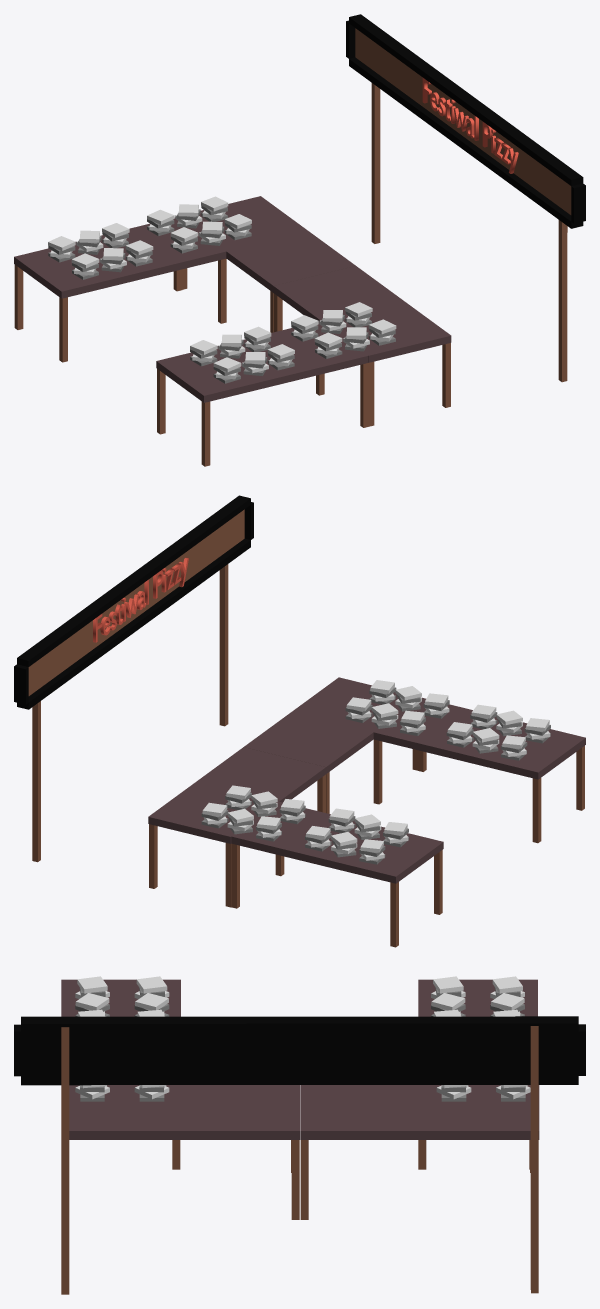
File: FestiallPizzzyy.fbx
The picture shows the model from 3 angles, top to bottom: view 1: azimuth 30°, elevation 25°; view 2: azimuth 150°, elevation 25°; view 3: azimuth 270°, elevation 25°; orthographic projection. The views are drawn at different scales.
Visible parts, largest first — view 1: Stoł, Banner, Pizze_003__2_, Pizze_003, Pizze_003__3_, Pizze_003__1_, Text; view 2: Stoł, Banner, Pizze_003, Pizze_003__1_, Pizze_003__2_, Pizze_003__3_, Text; view 3: Banner, Stoł, Pizze_003, Pizze_003__3_, Pizze_003__1_, Pizze_003__2_.
Boxes of the visible parts, left/top/right/bottom form: Stoł: left=14, top=196, right=451, bottom=466; Banner: left=346, top=14, right=585, bottom=382; Pizze_003__2_: left=147, top=196, right=251, bottom=253; Pizze_003: left=190, top=326, right=294, bottom=383; Pizze_003__3_: left=48, top=223, right=153, bottom=279; Pizze_003__1_: left=291, top=302, right=396, bottom=358; Text: left=422, top=77, right=518, bottom=173; Stoł: left=148, top=677, right=585, bottom=947; Banner: left=14, top=495, right=253, bottom=862; Pizze_003: left=446, top=704, right=550, bottom=760; Pizze_003__1_: left=345, top=680, right=449, bottom=735; Pizze_003__2_: left=201, top=785, right=305, bottom=841; Pizze_003__3_: left=305, top=808, right=408, bottom=864; Text: left=93, top=557, right=188, bottom=642; Banner: left=14, top=1016, right=585, bottom=1294; Stoł: left=61, top=979, right=539, bottom=1219; Pizze_003: left=75, top=976, right=169, bottom=1016; Pizze_003__3_: left=431, top=976, right=524, bottom=1016; Pizze_003__1_: left=75, top=1085, right=169, bottom=1101; Pizze_003__2_: left=436, top=1085, right=530, bottom=1101.
Size of the model in its own units: 209 by 119 by 227.
